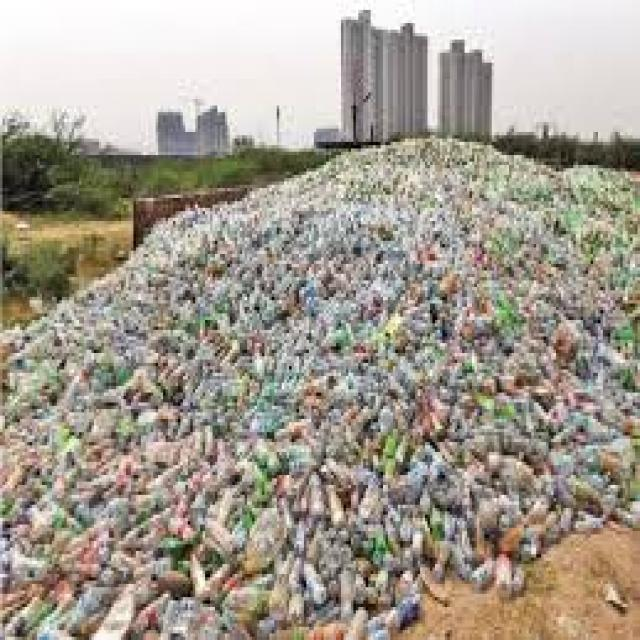heap: (144, 209, 640, 539)
